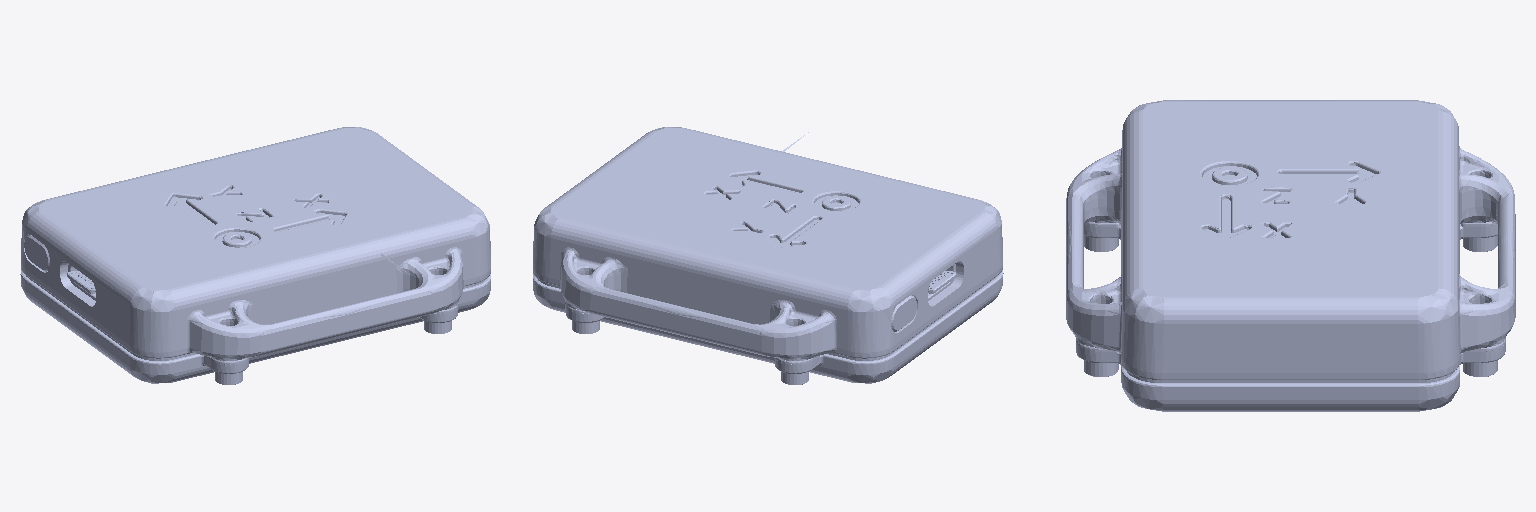
robot.urdf — ximu3:
<?xml version="1.0" ?>
<!-- =================================================================================== -->
<!-- |    This document was autogenerated by xacro from /catkin_ws/src/ximu3_ros/urdf/robot_ximu3.urdf.xacro | -->
<!-- |    EDITING THIS FILE BY HAND IS NOT RECOMMENDED                                 | -->
<!-- =================================================================================== -->
<robot name="ximu3">
  <link name="ximu3">
    <inertial>
      <origin rpy="0 0 0" xyz="0 0 0"/>
      <mass value="0.1"/>
      <inertia ixx="1.0E-08" ixy="1.0E-08" ixz="1.0E-08" iyy="1.0E-07" iyz="1.0E-07" izz="1.0E-07"/>
    </inertial>
    <visual>
      <origin rpy="0 0 0" xyz="0 0 0"/>
      <geometry>
        <mesh filename="package://ximu3_ros/meshes/housing_s.stl"/>
      </geometry>
      <material name="">
        <color rgba="0.7921 0.8196 0.9333 1"/>
      </material>
    </visual>
    <collision>
      <origin rpy="0 0 0" xyz="0 0 0"/>
      <geometry>
        <mesh filename="package://ximu3_ros/meshes/housing_s.stl"/>
      </geometry>
    </collision>
  </link>
</robot>

--- Render facts (derived) ---
The picture shows the robot from 3 angles, left to right: view 1: azimuth 30°, elevation 25°; view 2: azimuth 150°, elevation 25°; view 3: azimuth 270°, elevation 25°; orthographic projection.
Model ximu3 with 1 links and 0 joints (none), rooted at ximu3, posed all joints at 0.
Links seen in each view (by area): view 1: ximu3; view 2: ximu3; view 3: ximu3.
Link boxes in pixels (left/top/right/bottom): ximu3: left=20, top=127, right=490, bottom=384; ximu3: left=533, top=127, right=1003, bottom=384; ximu3: left=1066, top=100, right=1515, bottom=411.
Bounding box of the posed robot: 0.055 × 0.0513 × 0.0135 m (x, y, z).
1 mesh visuals loaded from 1 distinct referenced files (1 binary STL).
